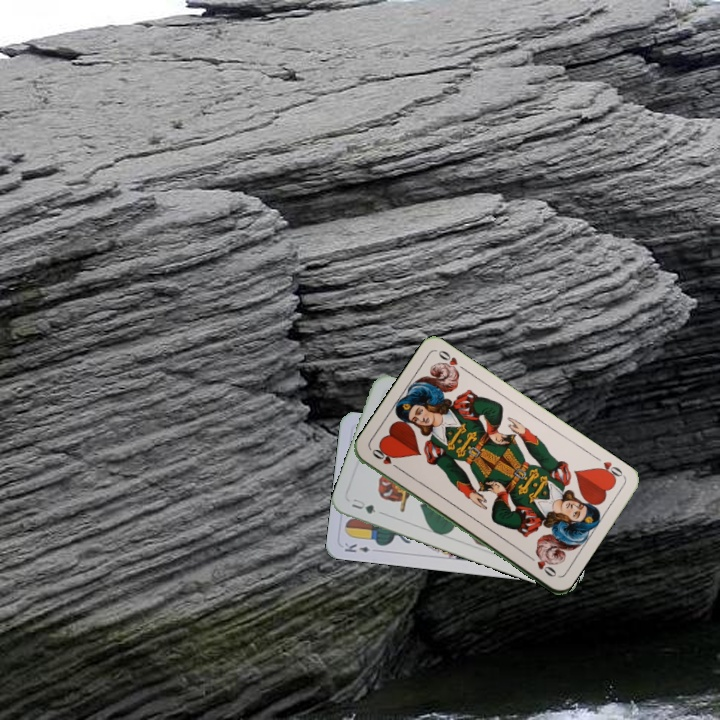EK: (340, 539, 372, 555)
GU: (348, 494, 385, 517)
HO: (368, 445, 403, 473), (592, 457, 627, 484)
